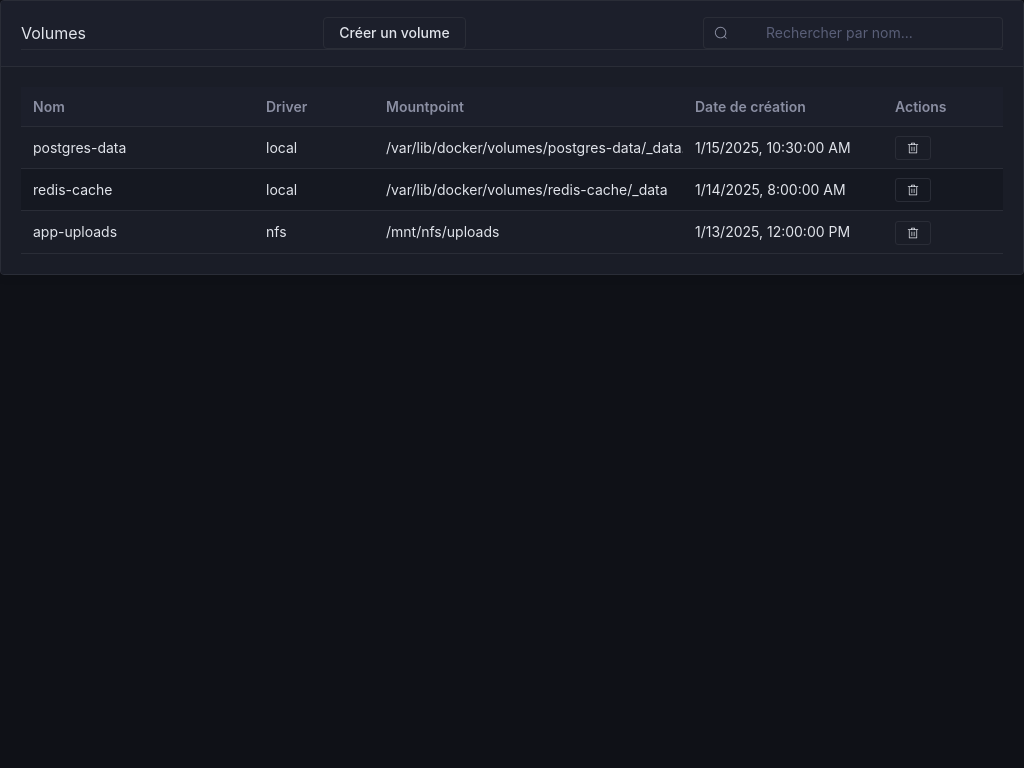
Scenario: Volumes.vue › ouvre le dialog de confirmation au clic sur Supprimer
What coordinates should you click on to do the following:
click the button without text next to "1/15/2025, 10:30:00 AM"
I would click on:
 (913, 148)
Its box is [895,136,931,160].
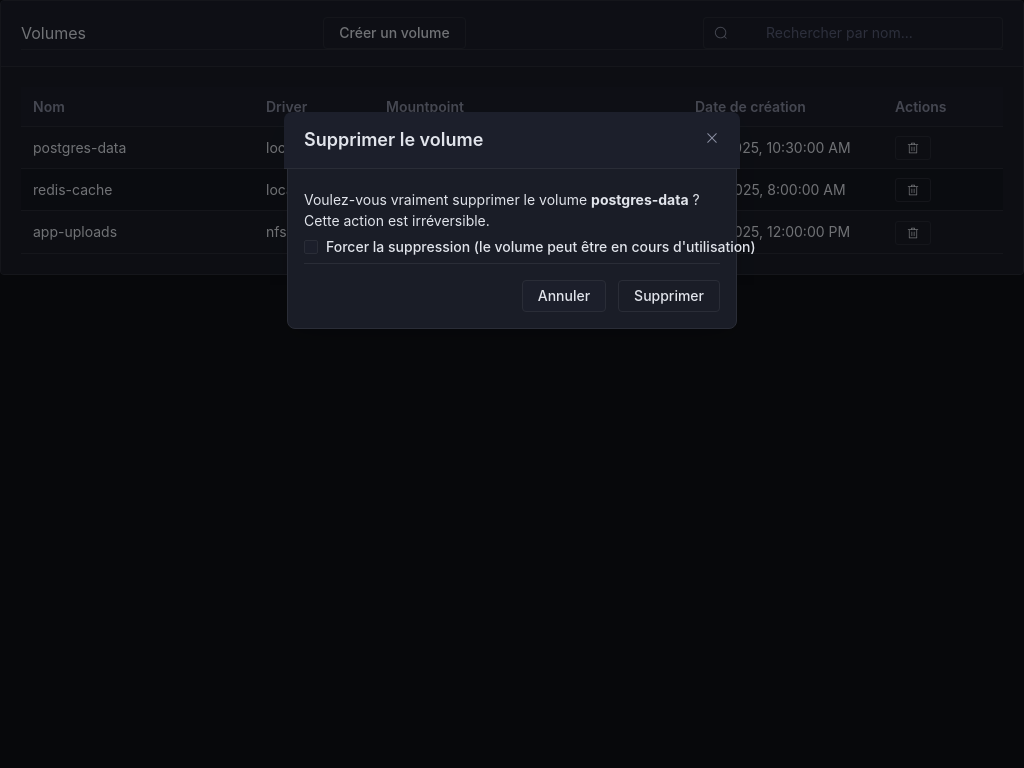
Expected: the text "postgres-data" is shown, [33,139,126,156]
Now the text "Supprimer le volume" is shown, box [304,129,483,150]
